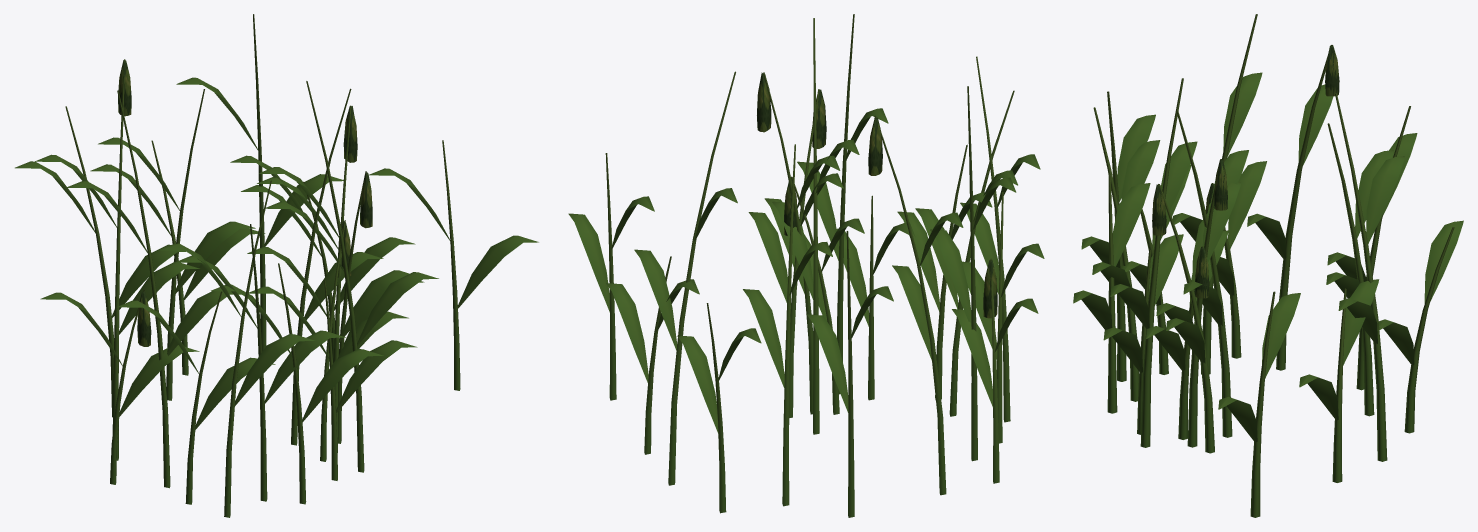
Rendered from shore-reeds-lod0.glb.
The picture shows the model from 3 angles, left to right: view 1: azimuth 30°, elevation 25°; view 2: azimuth 150°, elevation 25°; view 3: azimuth 270°, elevation 25°; orthographic projection. The views are drawn at different scales.
Bounding box in the file's own units: 0.1564 × 0.1211 × 0.1216.
1 material, 1 textured.
